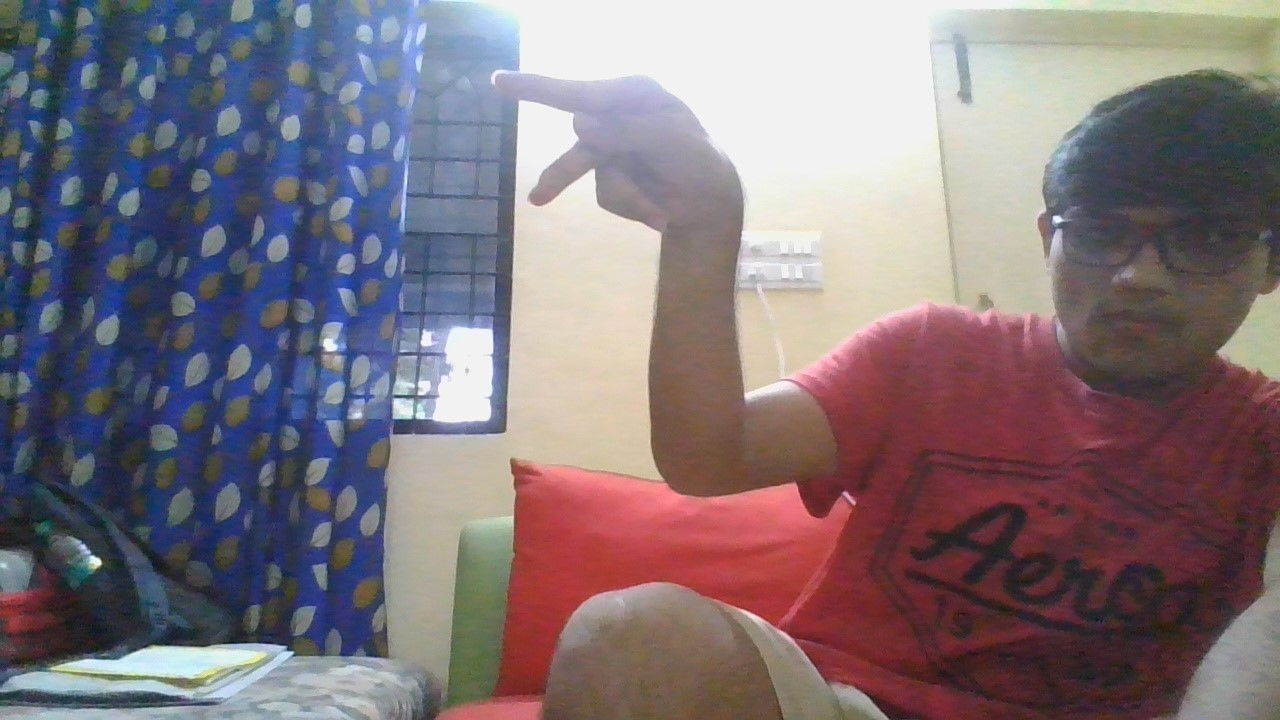p: (475, 67, 749, 235)
